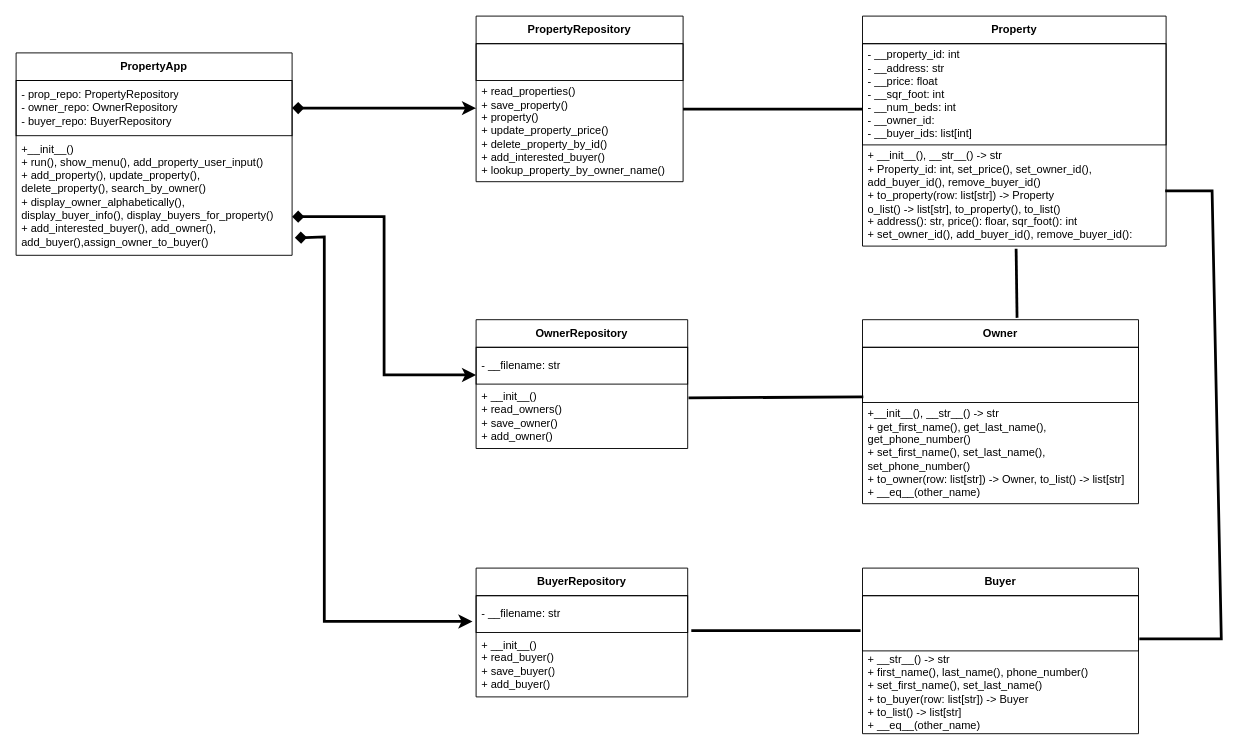
This 1239x750 diagram has some shape labels left out. Here are the shapes that lost their labels. From the top down, the centre of each, then its label:
[579,61]: - __ filename: str = "property.csv" - __properties: list[Property]
[1000,374]: - __owner_id: int - __first_name: str - __last_name: str - __phone_number: str
[1000,623]: - __buyer_id: int - __first_name: str - __last_name: str - __phone_number: str
